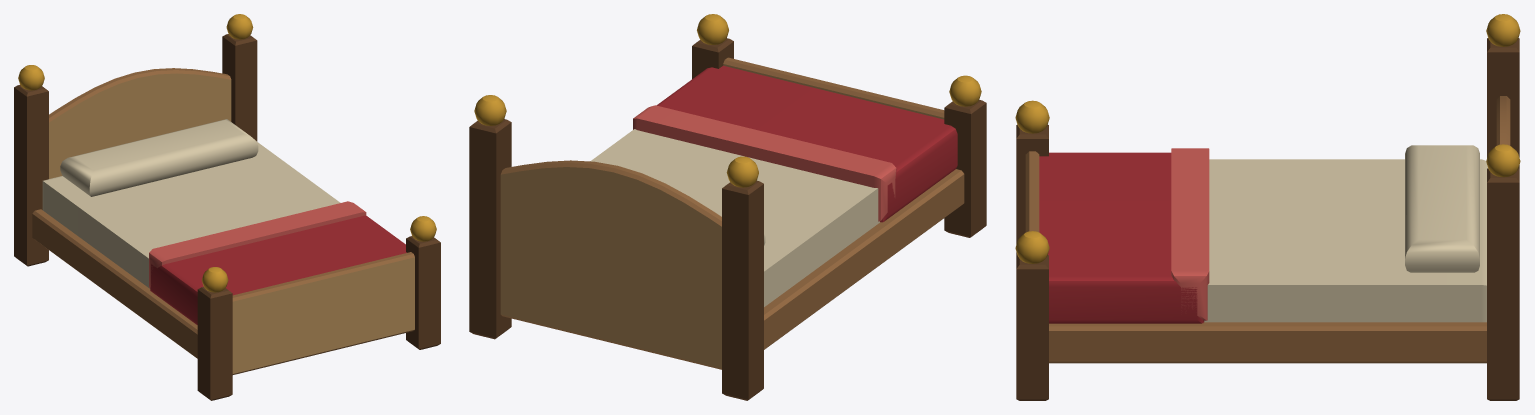
File: Bed_01.glb
3 views of the same model, side by side, from view 1: azimuth 30°, elevation 25°; view 2: azimuth 150°, elevation 25°; view 3: azimuth 270°, elevation 25° (orthographic). The views are drawn at different scales.
Visible parts, largest first — view 1: Bed_01; view 2: Bed_01; view 3: Bed_01.
Part boxes in pixels (bbox=[...]): Bed_01: bbox=[14, 14, 440, 400]; Bed_01: bbox=[469, 14, 986, 400]; Bed_01: bbox=[1015, 14, 1520, 400].
Size of the model in its own units: 5.02 by 4.03 by 7.39.
